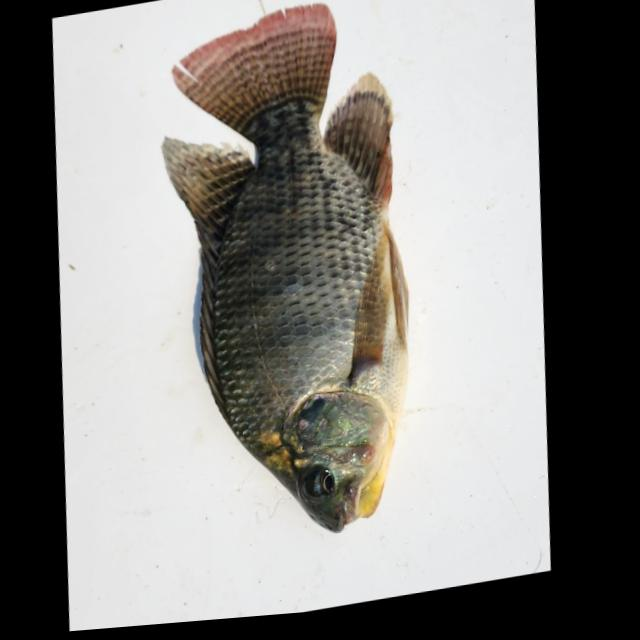Tilapia: (127, 0, 448, 561)
